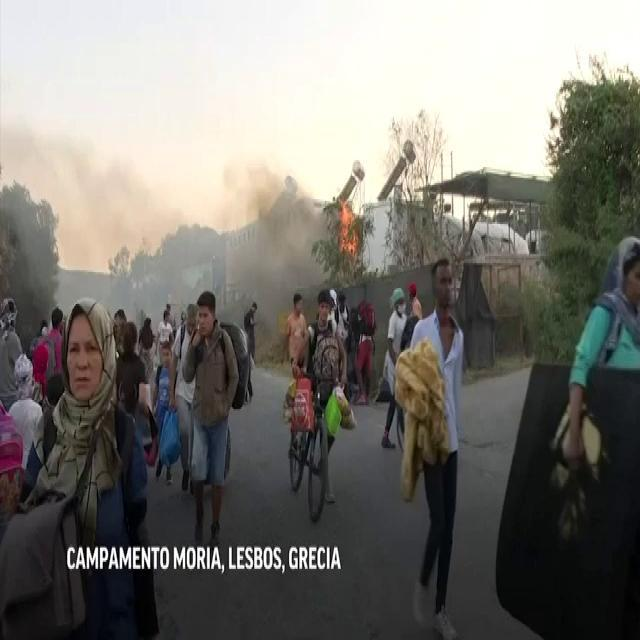Fire: (334, 200, 357, 254)
Smoke: (0, 128, 215, 288), (219, 158, 334, 282)
